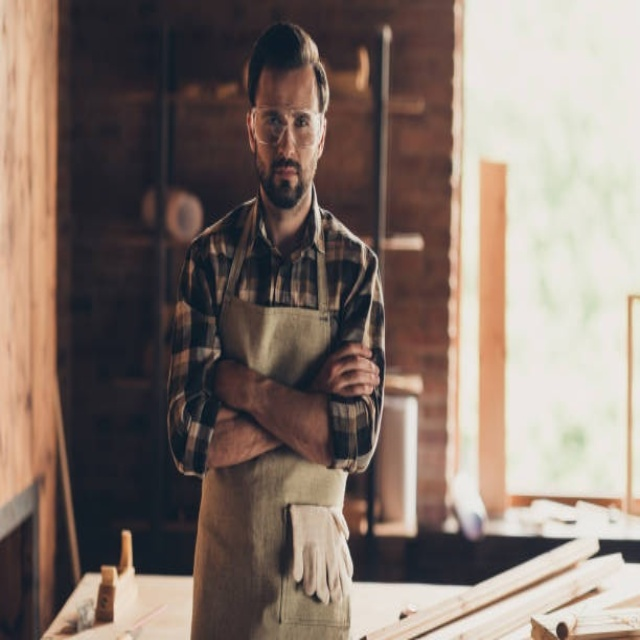Gafas: (252, 106, 324, 147)
Sin_guantes: (315, 337, 379, 398)
Sin_mascara: (265, 160, 303, 195)
